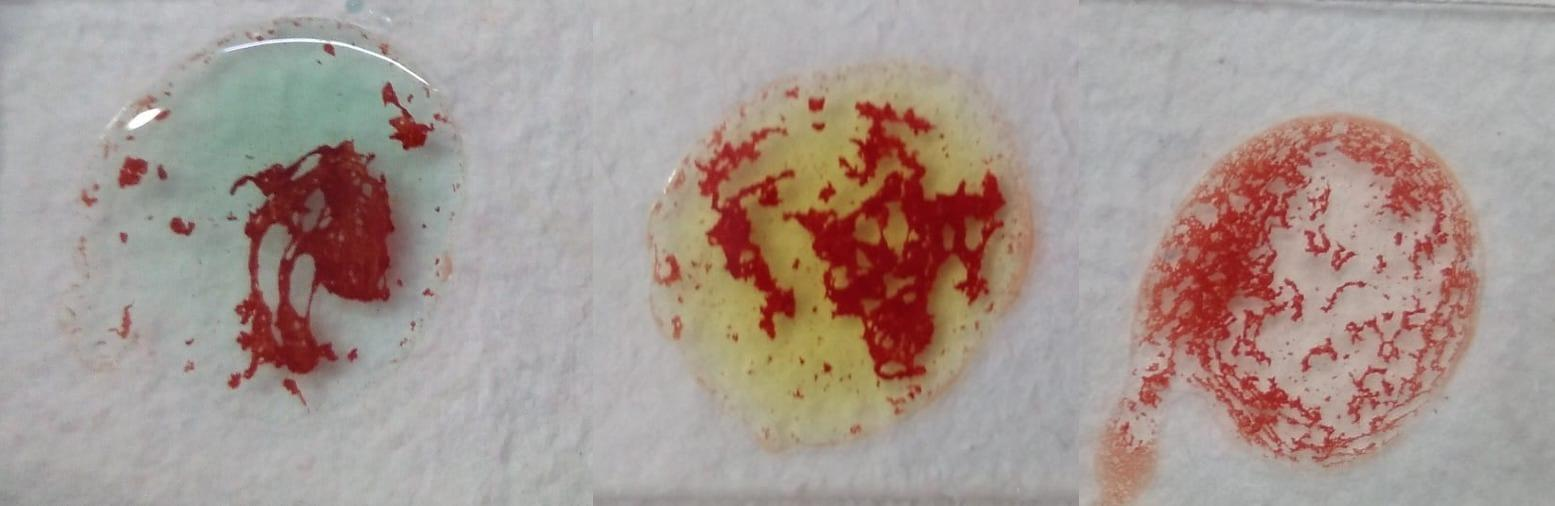A: (109, 22, 465, 387)
B: (667, 82, 1027, 424)
D: (1194, 109, 1472, 459)
